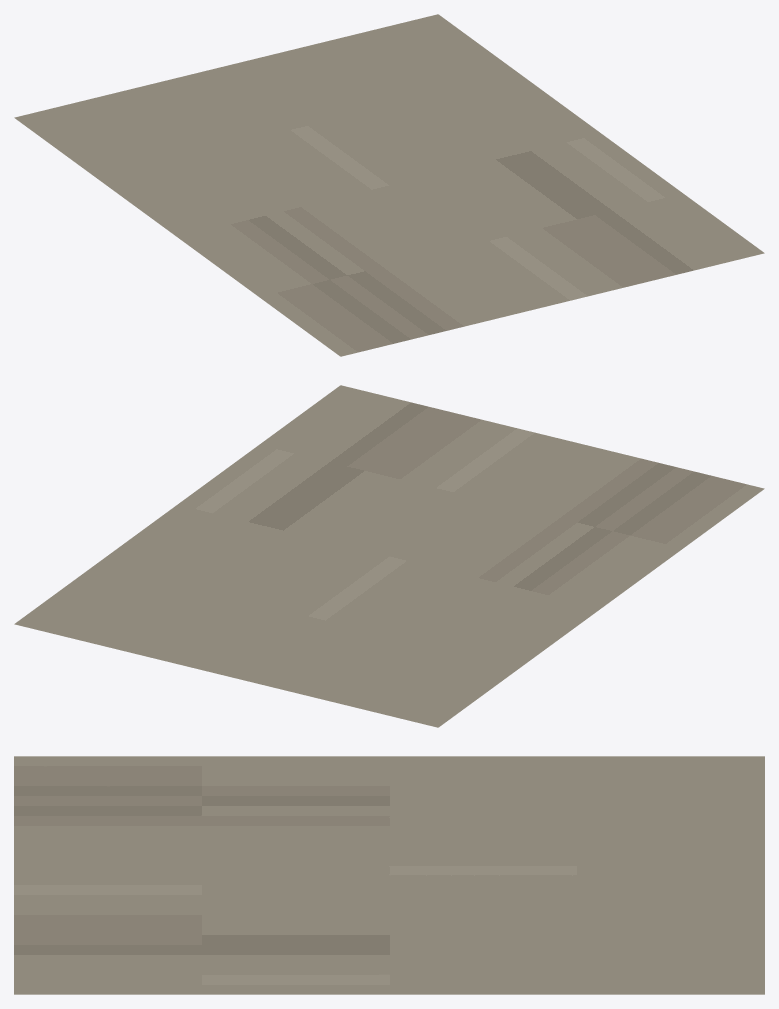
3 renders of one model, top to bottom at view 1: azimuth 30°, elevation 25°; view 2: azimuth 150°, elevation 25°; view 3: azimuth 270°, elevation 25°, orthographic. The views are drawn at different scales.
Size of the model in its own units: 0.75 by 0 by 1.
Materials: 1 (1 with a texture image).
